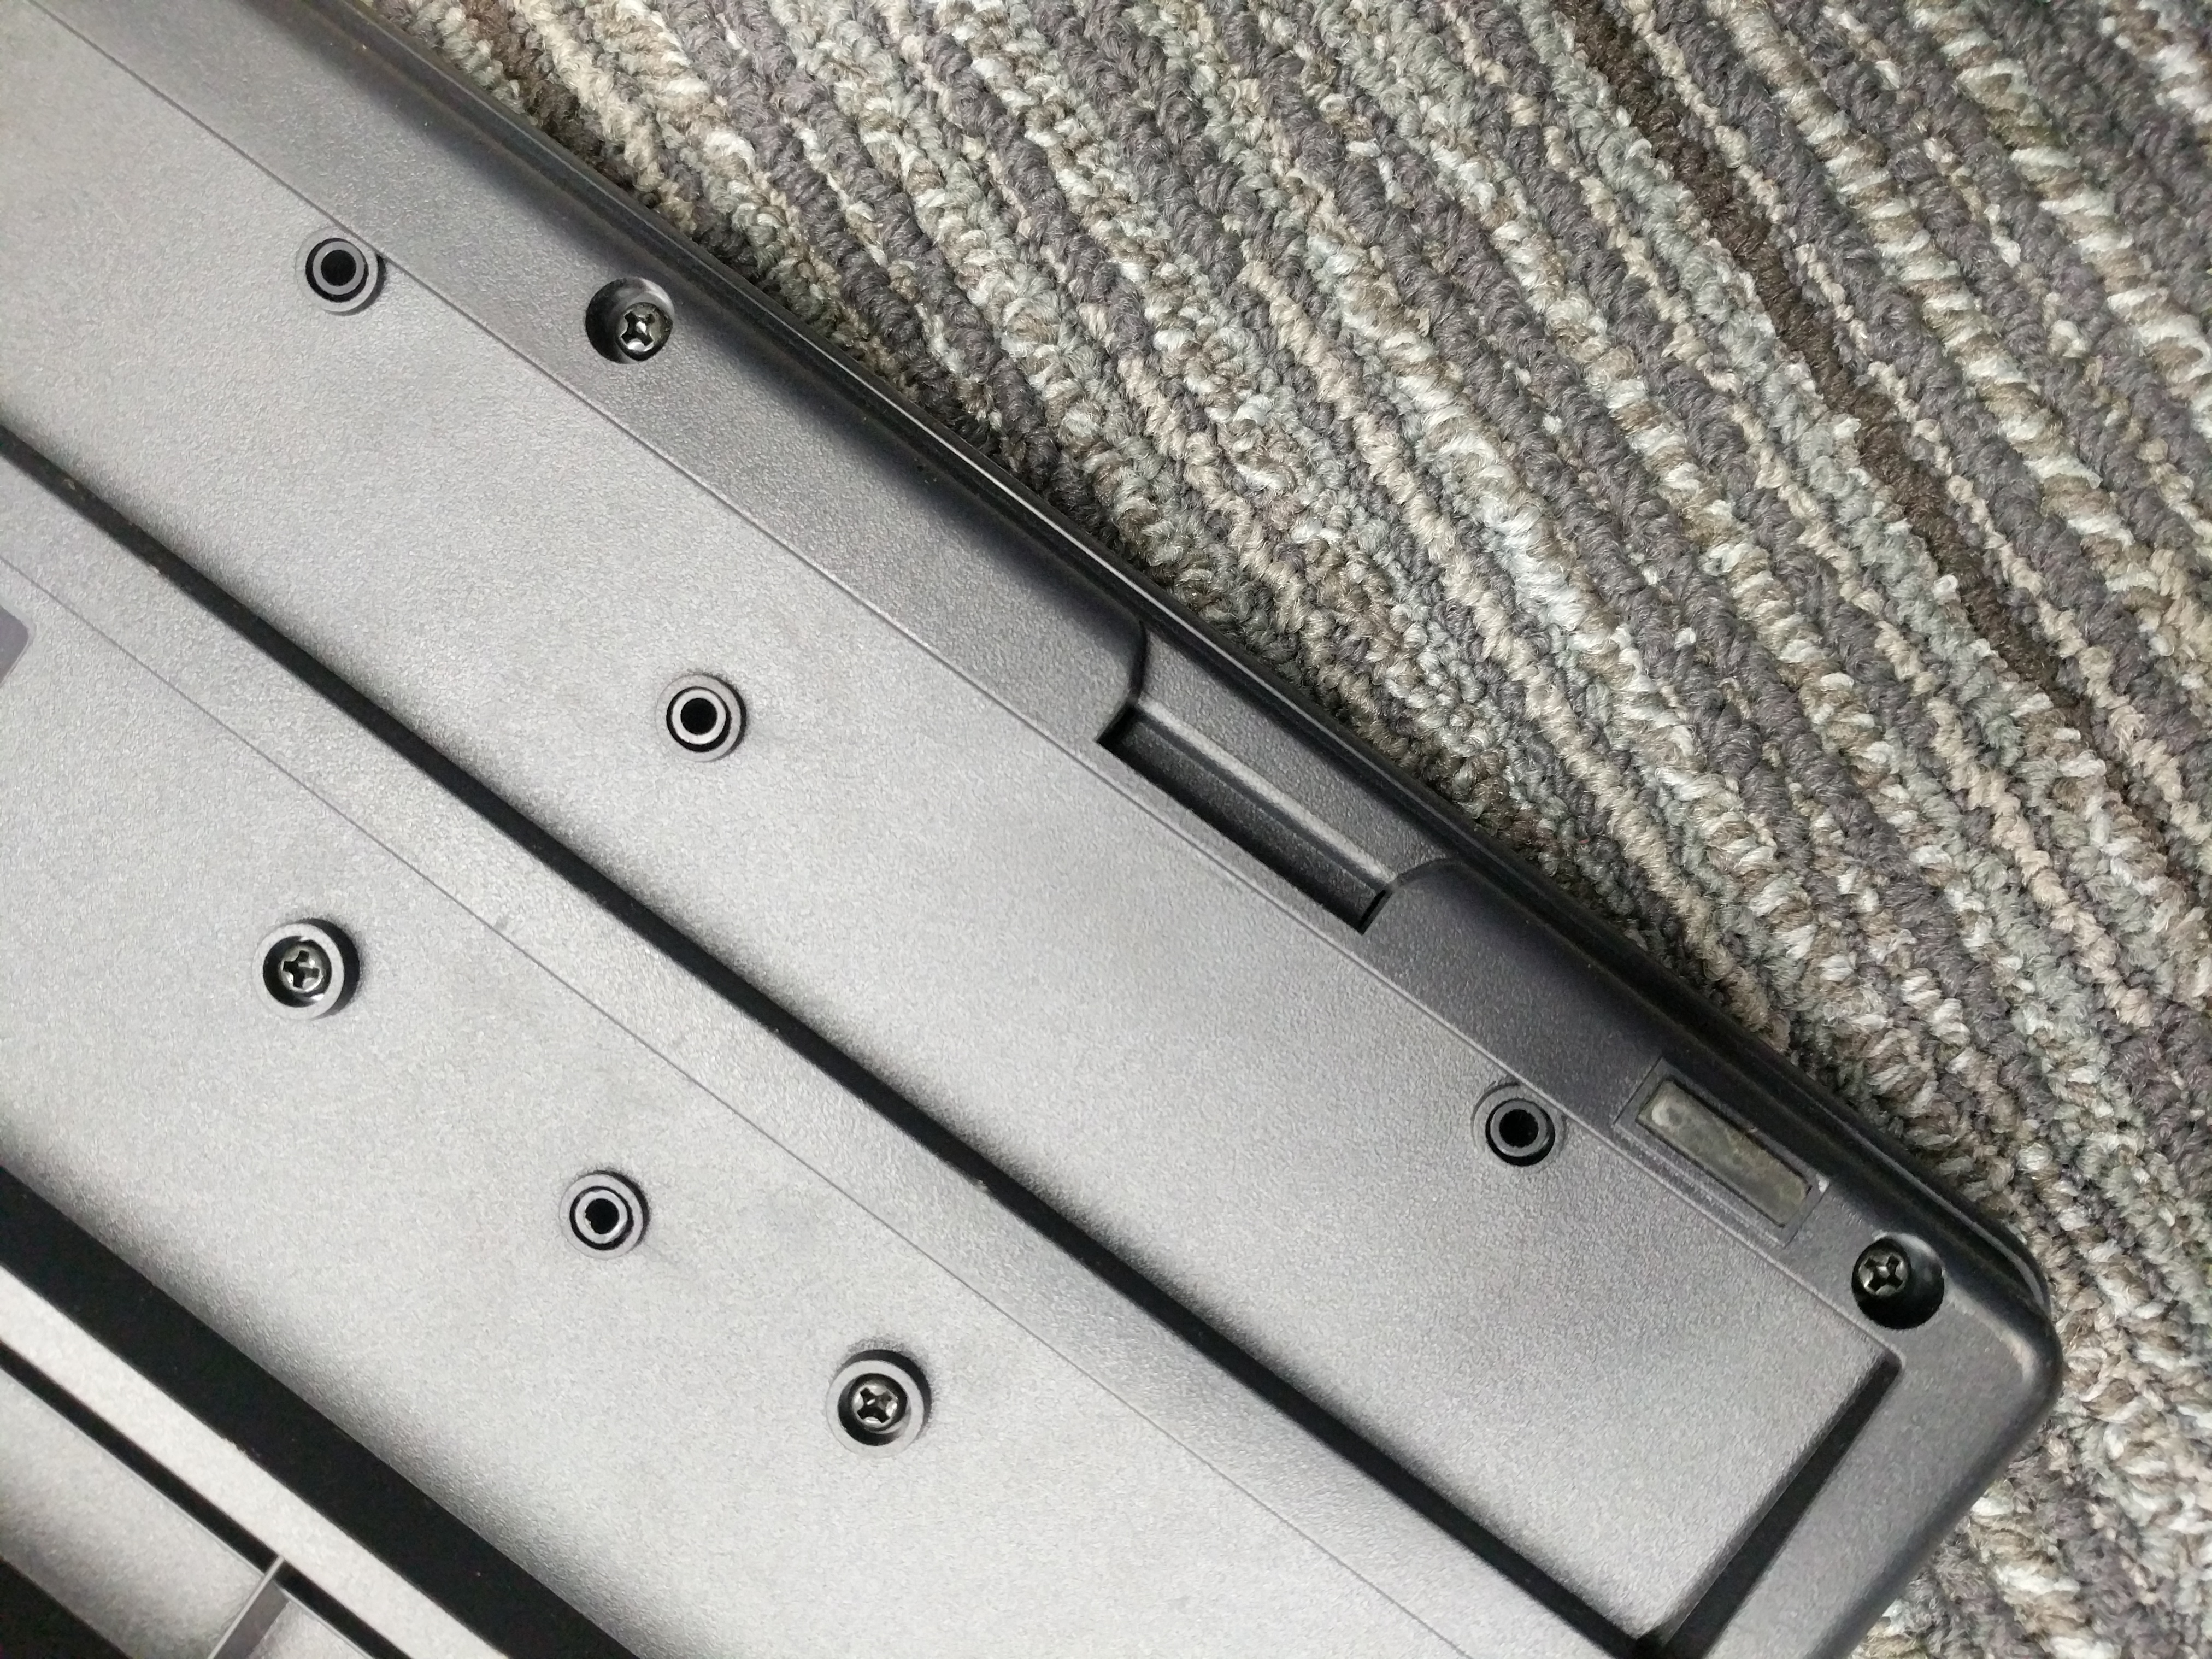cross_recessed_screw: (831, 1363, 913, 1443), (1848, 1234, 1921, 1317), (590, 289, 671, 362), (256, 932, 333, 1002)
